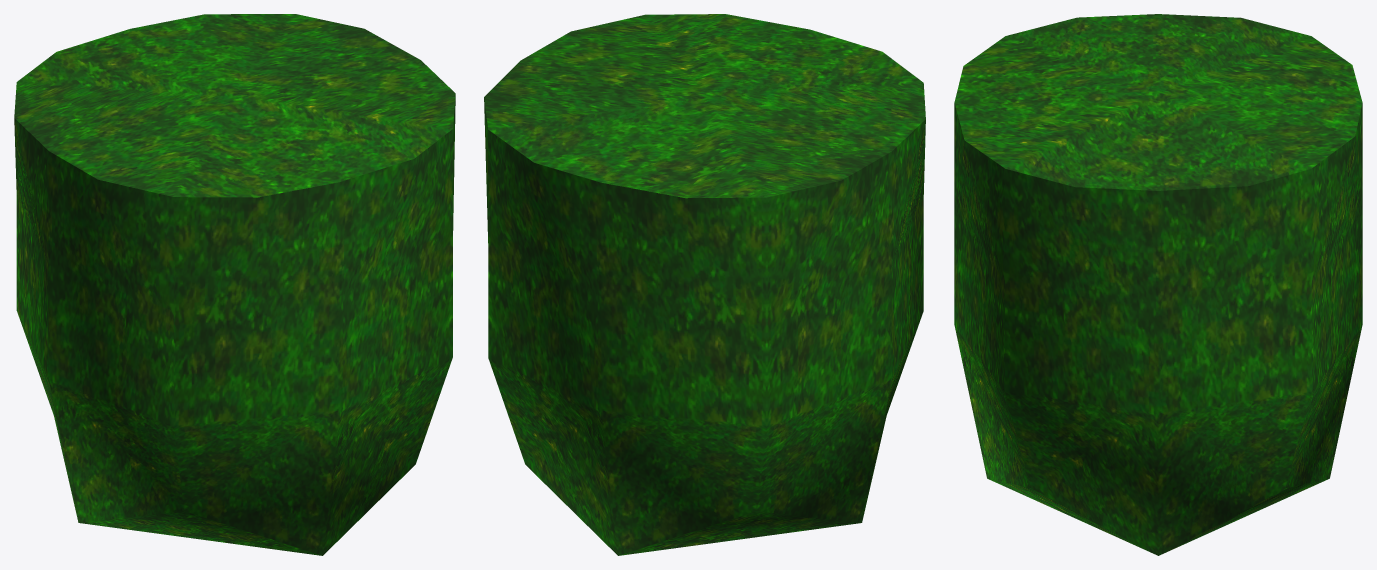
The model's file is INST_HTOWN_CLIFFPIECEA.fbx.
3 views of the same model, side by side, from view 1: azimuth 30°, elevation 25°; view 2: azimuth 150°, elevation 25°; view 3: azimuth 270°, elevation 25° (orthographic). The views are drawn at different scales.
Parts seen in each view (by area): view 1: INST_HTOWN_CLIFFPIECEA; view 2: INST_HTOWN_CLIFFPIECEA; view 3: INST_HTOWN_CLIFFPIECEA.
Boxes of the visible parts, x1,y1,x2,y2 form: INST_HTOWN_CLIFFPIECEA: (14,14,455,555); INST_HTOWN_CLIFFPIECEA: (484,14,925,555); INST_HTOWN_CLIFFPIECEA: (954,14,1362,555).
Size of the model in its own units: 26789 by 30519 by 26109.
Materials: 1 (1 with a texture image).
